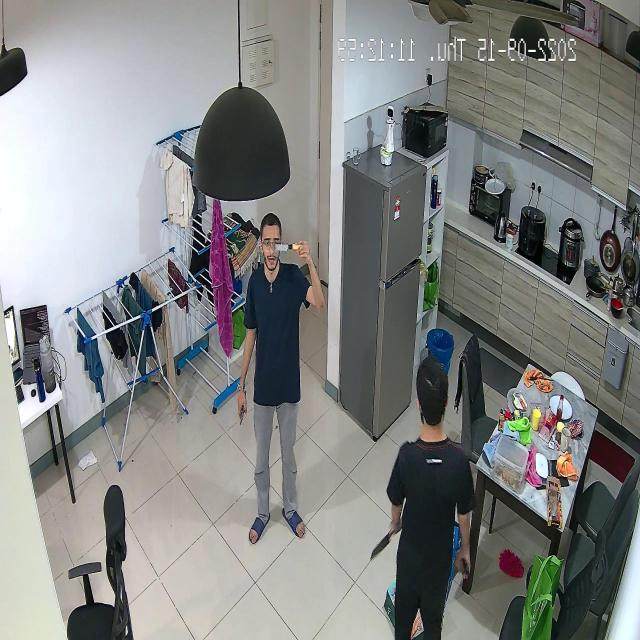Knife: (361, 523, 403, 564), (264, 238, 316, 267)
